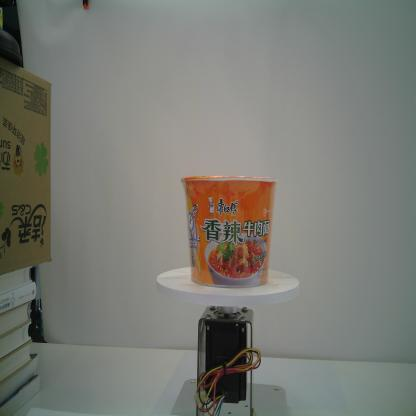Instant Noodles: (181, 175, 278, 288)
